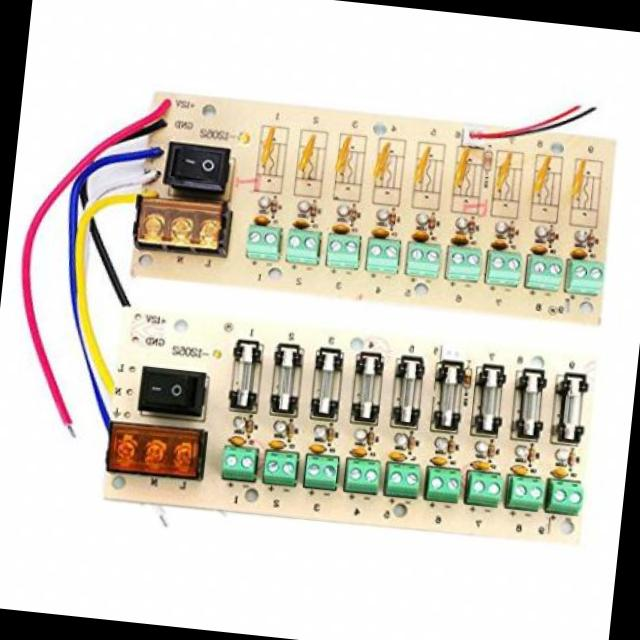connector: (338, 448, 390, 504), (219, 434, 267, 494), (500, 472, 554, 522), (419, 458, 467, 514), (321, 228, 368, 284), (382, 452, 426, 510), (281, 222, 327, 273), (304, 440, 344, 497), (358, 236, 406, 283), (402, 237, 448, 286), (444, 237, 486, 289), (240, 218, 282, 270), (262, 444, 302, 498), (486, 240, 529, 286), (466, 463, 504, 512), (545, 476, 587, 520), (524, 248, 565, 292), (564, 255, 604, 296)
